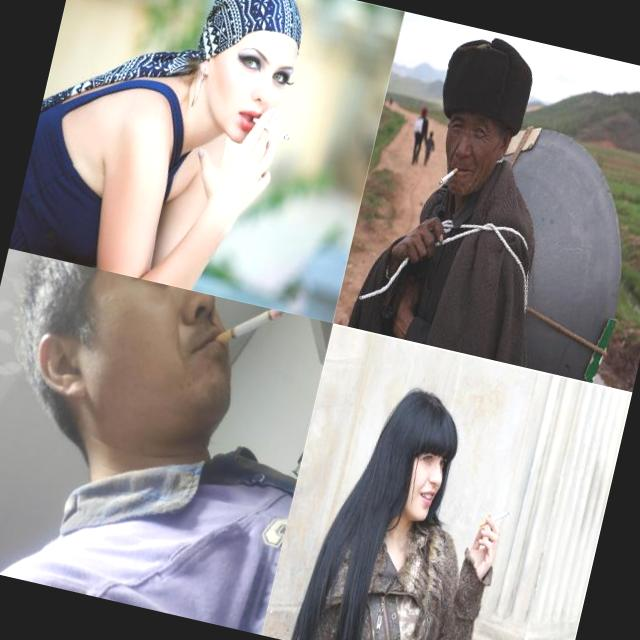smoke: (213, 298, 284, 358), (477, 501, 512, 536), (248, 116, 292, 142), (437, 163, 459, 188)
